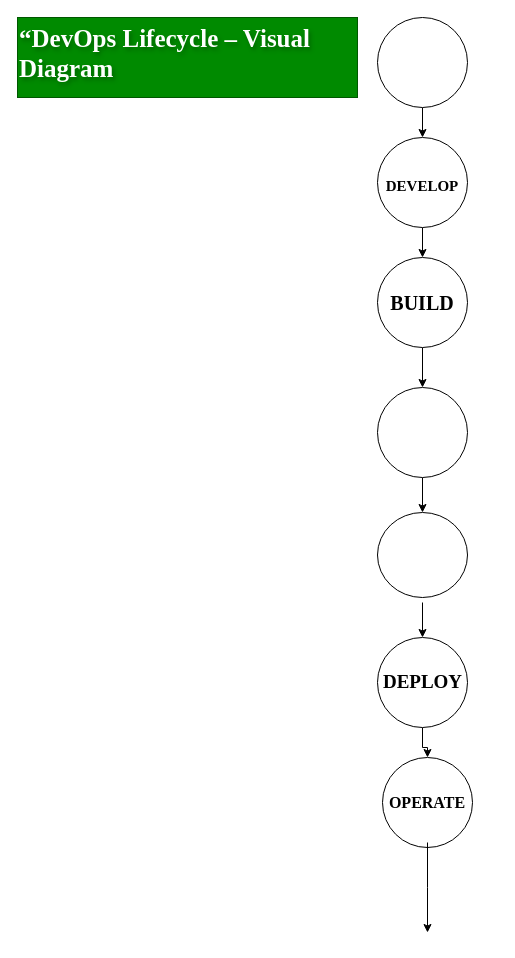
Some shapes in this 515 by 958 pixel diagram are drawn without their labels. The shapes that lost their labels are listed below. From the top down, each one's centre as x and y in pixels, then its label:
At (422,62): "PLAN".
At (422,432): "TEST".
At (422,555): "RELEASE".
